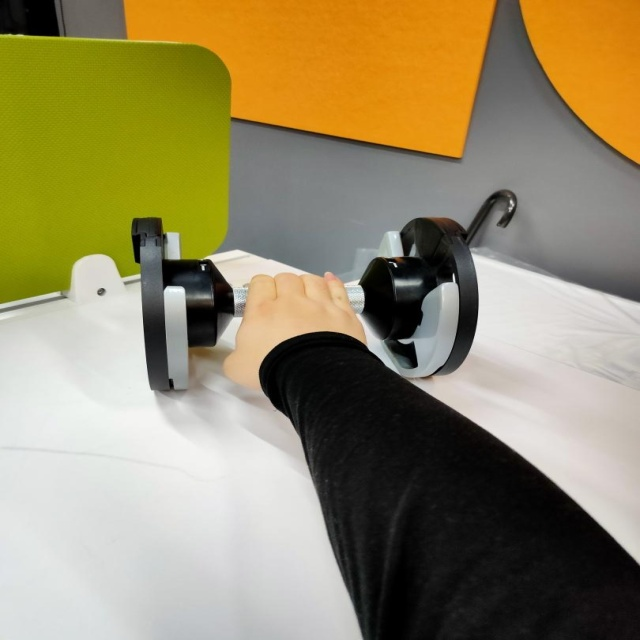02-4kg: (130, 215, 480, 394)
